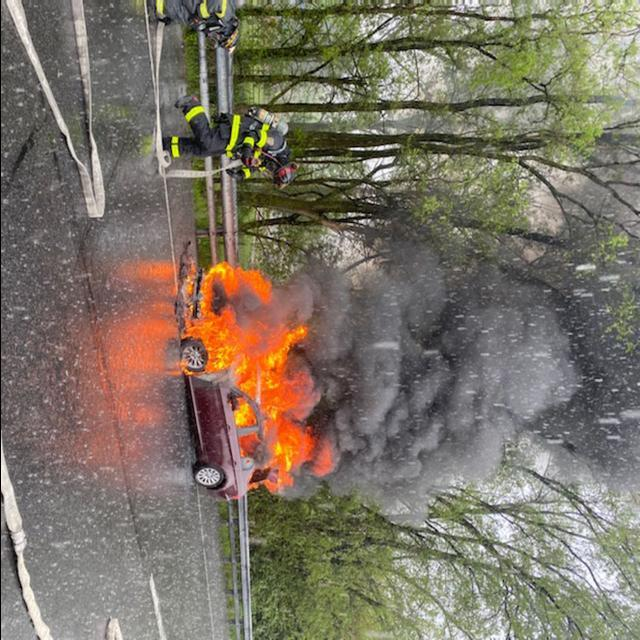Fire: (178, 265, 335, 495)
